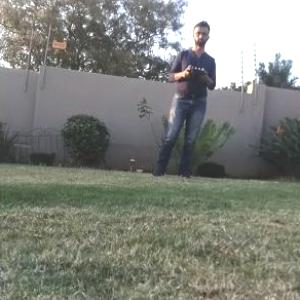follow: (146, 14, 220, 180)
